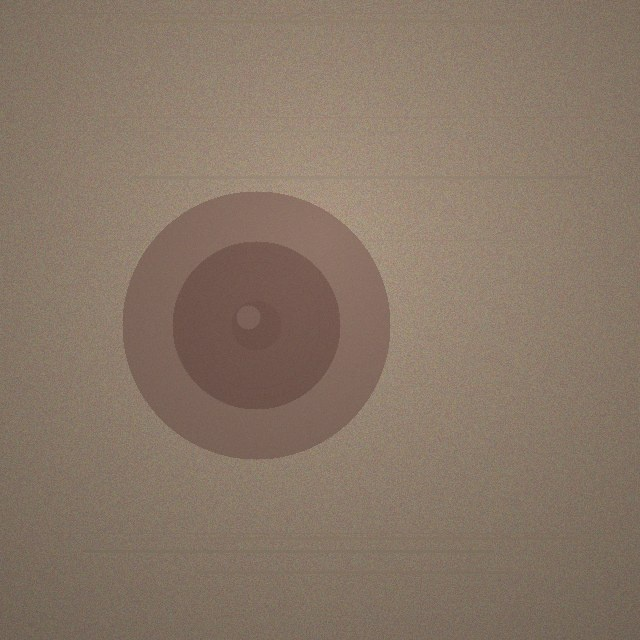good: (122, 191, 390, 459)
